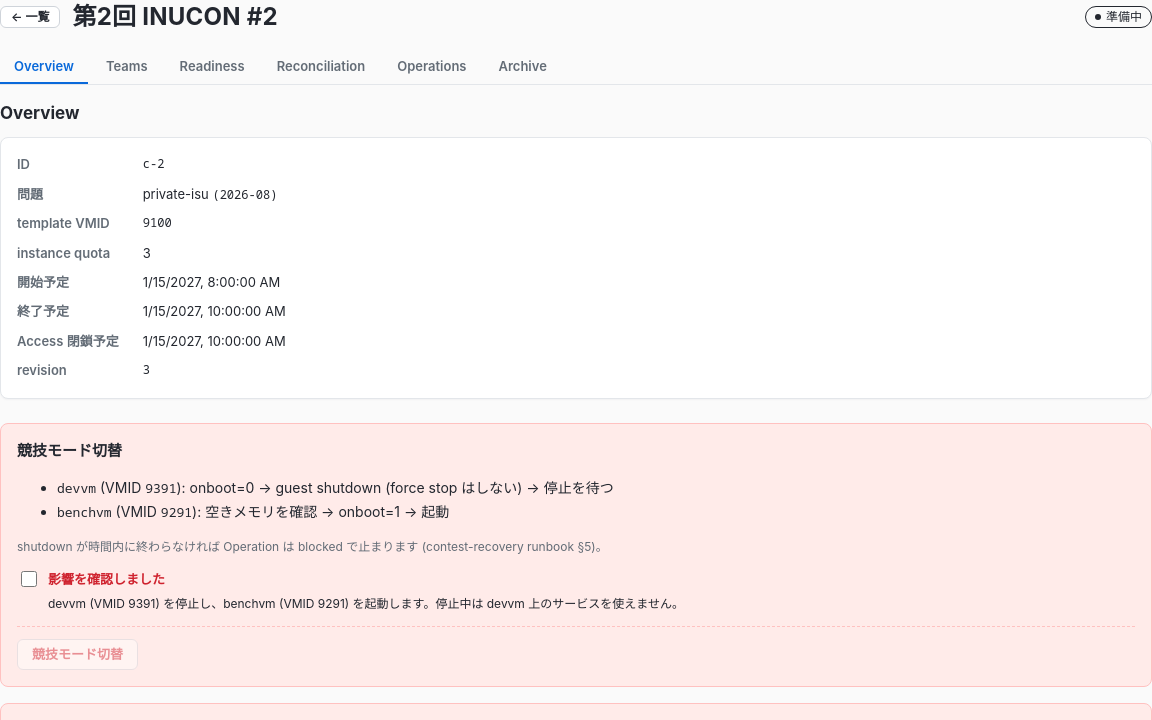
ContestAdmin › Reconciliation タブの cleanup › finished / canceled 以外では cleanup を出さない
Check: the heading "第2回 INUCON #2" is shown, box [72,2,278,31]
Click the tab "Reconciliation" at (321, 67), box [263,50,379,84]
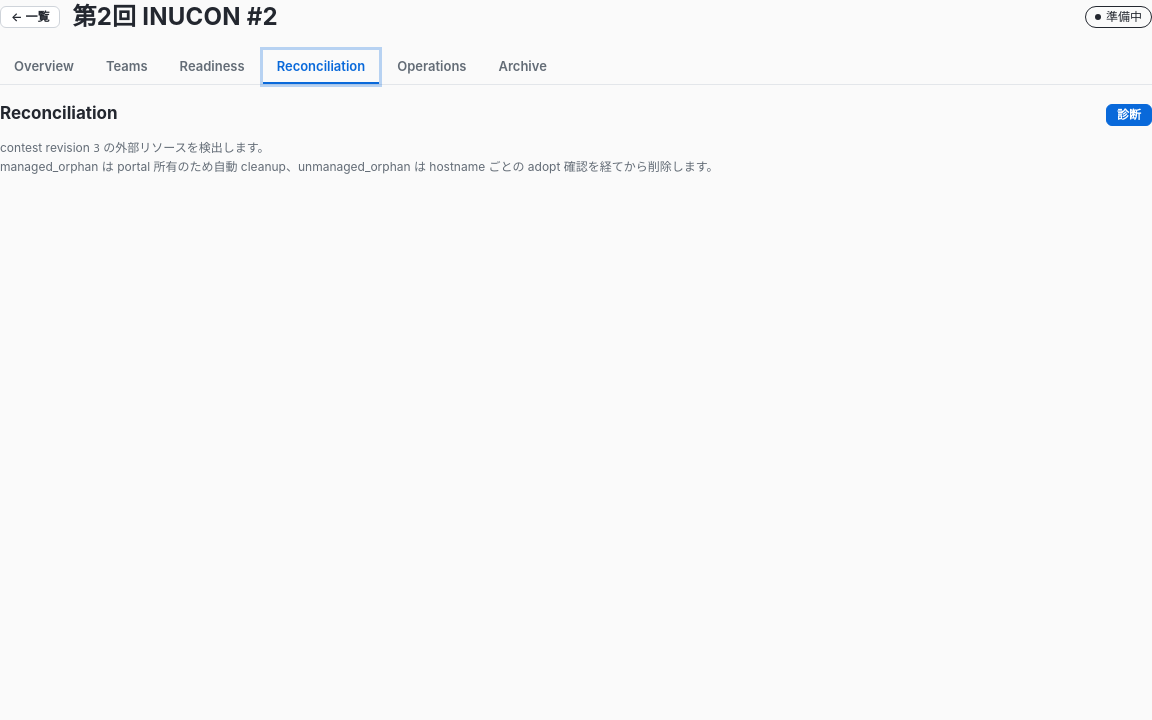
Click the button "診断" at (1129, 115), box [1106,104,1151,126]
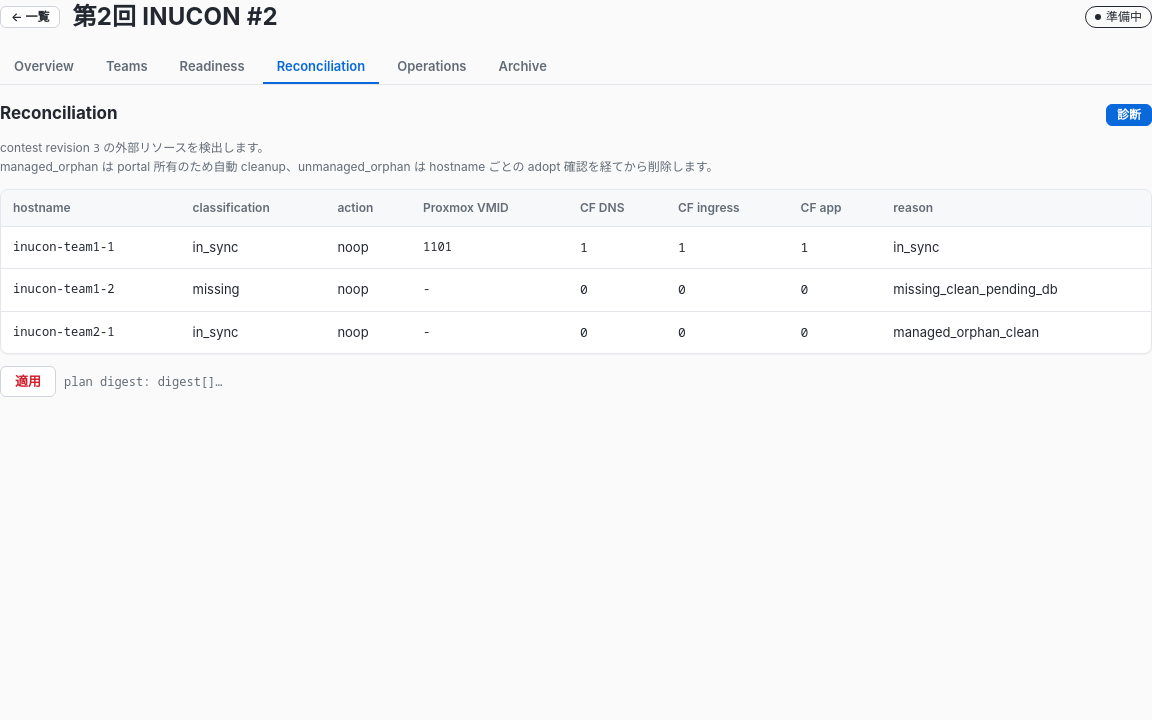
Check: the text "inucon-team1-1" is shown, box [1,226,180,269]
